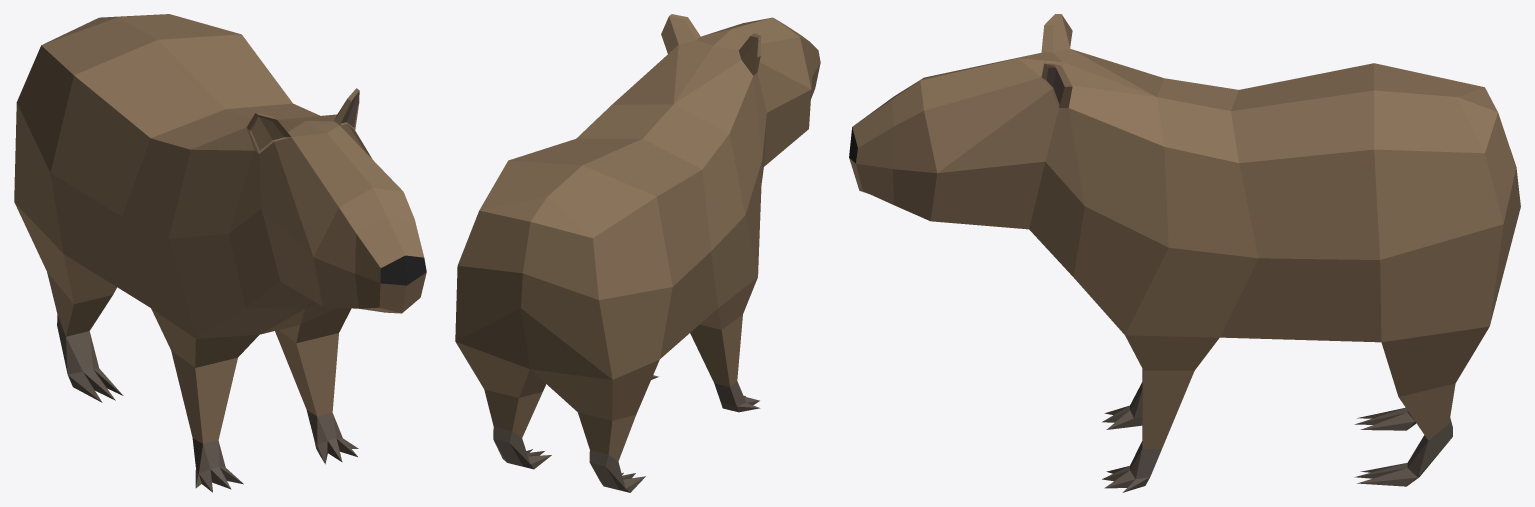
File: Model_Capybara.fbx
The picture shows the model from 3 angles, left to right: view 1: azimuth 30°, elevation 25°; view 2: azimuth 150°, elevation 25°; view 3: azimuth 270°, elevation 25°; orthographic projection. The views are drawn at different scales.
Visible parts, largest first — view 1: Capybara; view 2: Capybara; view 3: Capybara.
Part boxes in pixels (x1,y1,x2,y2): Capybara: (14, 14, 426, 492); Capybara: (455, 14, 820, 492); Capybara: (849, 14, 1520, 492).
Size of the model in its own units: 54.87 by 97.65 by 145.
